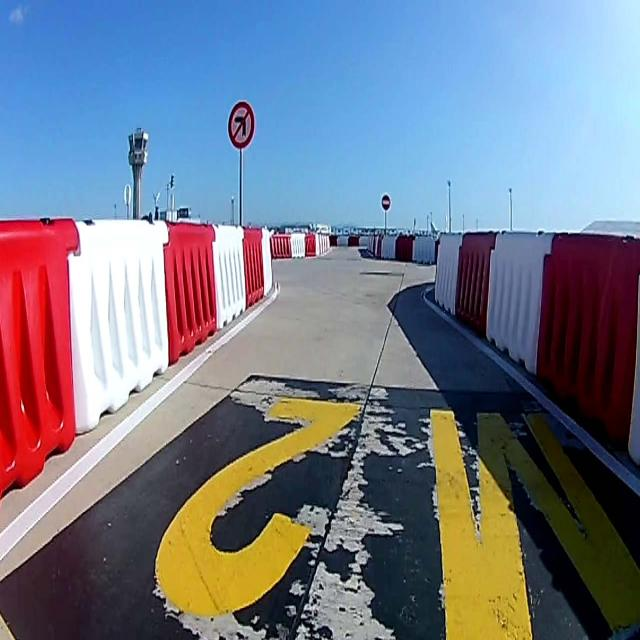soladonulmez: (229, 102, 255, 148)
